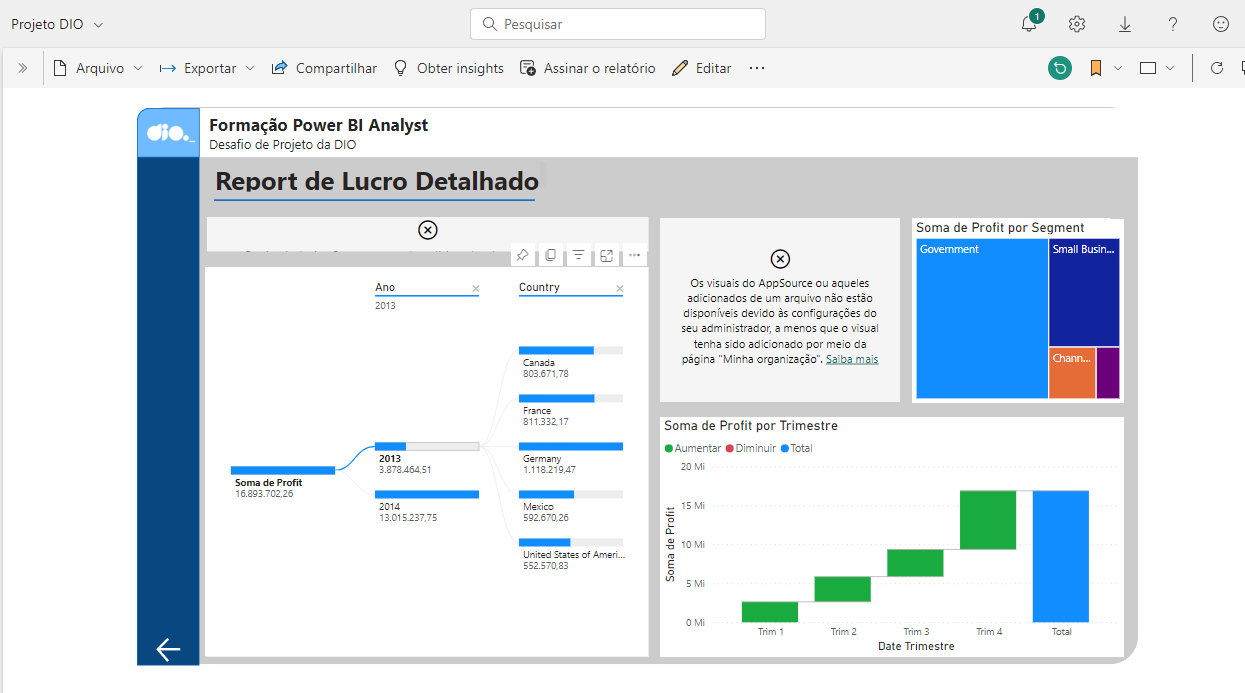

What the dashboard file says about the page in this screenshot:
{"tool":"powerbi","page":{"name":"Pagina 2","canvas":[1280,720],"ordinal":1},"visuals":[{"type":"shape","box":[16.7,11.7,1251.7,696.7],"z":0},{"type":"shape","box":[113.3,106.5,401.4,42.9],"z":0,"group":"g1"},{"type":"textbox","box":[108.9,74.8,424.3,47.1],"z":1000,"group":"g1"},{"type":"ChicletSlicer1448559807354","fields":{"Category":["financials.Date.Variation.Hierarquia de datas.Ano"]},"box":[103.3,148.3,551.7,43.3],"z":1000},{"type":"shape","box":[16.5,12.4,78.4,697.1],"z":2000},{"type":"shape","box":[101.7,211.7,553.3,486.7],"z":3000},{"type":"shape","box":[16.5,12.4,78.4,61.9],"z":4000},{"type":"shape","box":[670,150,300,230],"z":5000},{"type":"shape","box":[94.9,12.4,1174.1,61.9],"z":6000},{"type":"shape","box":[985,150,248.3,230],"z":7000},{"type":"textbox","box":[101.4,14.3,345.7,61.4],"z":8000},{"type":"shape","box":[670,398.3,563.3,300],"z":9000},{"type":"image","title":"DIO","box":[23.4,6.9,70.1,74.2],"z":10000},{"type":"group","id":"g1","title":"Titulo","box":[108.9,74.8,424.3,74.6],"z":11000},{"type":"decompositionTreeVisual","fields":{"ExplainBy":["financials.Date.Variation.Hierarquia de datas.Ano","financials.Country"],"Analyze":["Sum(financials.Profit)"]},"box":[103.3,211.7,551.7,486.7],"z":12000},{"type":"actionButton","box":[36.7,670,83.3,40],"z":13000},{"type":"treemap","fields":{"Group":["financials.Segment"],"Values":["Sum(financials.Profit)"]},"box":[985,151.7,265,230],"z":14000},{"type":"RadarChart1446119667547","fields":{"Y":["Sum(financials.Profit)"],"Category":["financials.Product"]},"box":[670,150,300,230],"z":15000},{"type":"waterfallChart","fields":{"Category":["financials.Date.Variation.Hierarquia de datas.Trimestre"],"Y":["Sum(financials.Profit)"]},"box":[670,398.3,580,300],"z":16000}]}

Visuals, with their boxes on the page's 1280x720 design canvas (x1, y1, x2, y2). These are canvas units, not pixel positions in the 1245x693 screenshot, which may show the page scaled, cropped or inside an application window:
shape: [x1=17, y1=12, x2=1268, y2=708]
shape: [x1=113, y1=106, x2=515, y2=149]
textbox: [x1=109, y1=75, x2=533, y2=122]
ChicletSlicer1448559807354 - financials.Date.Variation.Hierarquia de datas.Ano: [x1=103, y1=148, x2=655, y2=192]
shape: [x1=16, y1=12, x2=95, y2=710]
shape: [x1=102, y1=212, x2=655, y2=698]
shape: [x1=16, y1=12, x2=95, y2=74]
shape: [x1=670, y1=150, x2=970, y2=380]
shape: [x1=95, y1=12, x2=1269, y2=74]
shape: [x1=985, y1=150, x2=1233, y2=380]
textbox: [x1=101, y1=14, x2=447, y2=76]
shape: [x1=670, y1=398, x2=1233, y2=698]
"DIO" image: [x1=23, y1=7, x2=94, y2=81]
"Titulo" group: [x1=109, y1=75, x2=533, y2=149]
decompositionTreeVisual - financials.Date.Variation.Hierarquia de datas.Ano x financials.Country: [x1=103, y1=212, x2=655, y2=698]
actionButton: [x1=37, y1=670, x2=120, y2=710]
treemap - financials.Segment x Sum(financials.Profit): [x1=985, y1=152, x2=1250, y2=382]
RadarChart1446119667547 - Sum(financials.Profit) x financials.Product: [x1=670, y1=150, x2=970, y2=380]
waterfallChart - financials.Date.Variation.Hierarquia de datas.Trimestre x Sum(financials.Profit): [x1=670, y1=398, x2=1250, y2=698]
